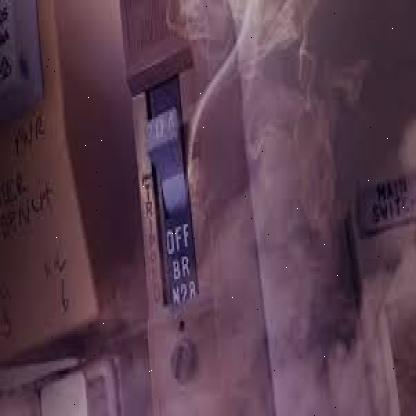smoke: (11, 0, 409, 416)
